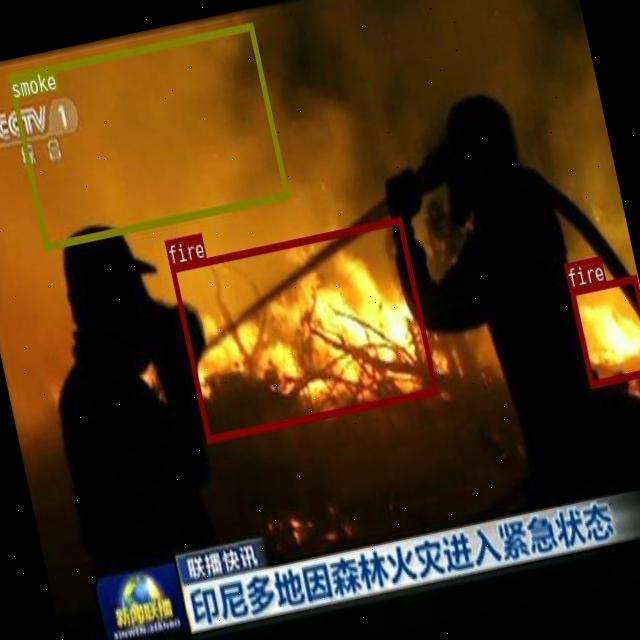fire: (170, 215, 438, 441), (569, 273, 640, 385)
smoke: (7, 22, 289, 248)
